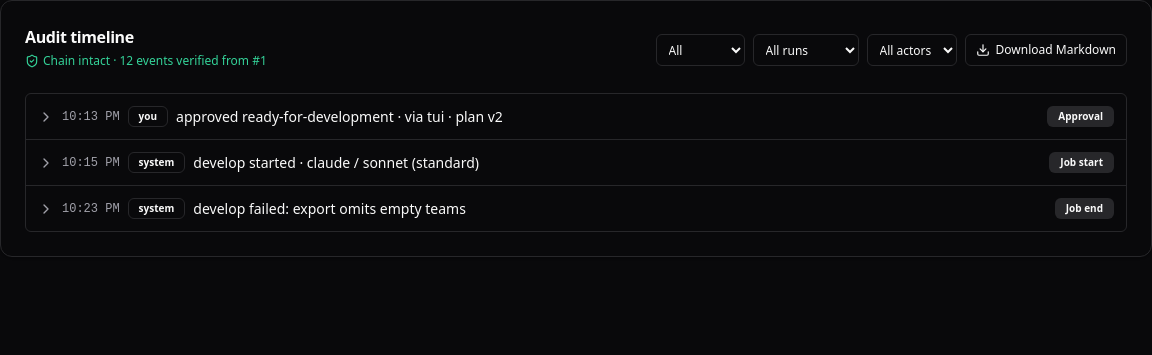
AuditTimeline › renders entries, expands details on click, and shows chain status
The image size is (1152, 355).
Expected: the text "approved ready-for-development · via tui · plan v2" is shown, [176,106,503,126]
Expected: the text "Chain intact · 12 events verified from #1" is shown, [25,53,267,69]
Click the text "develop started · claude / sonnet (standard)" at (336, 162), box [193,152,479,172]
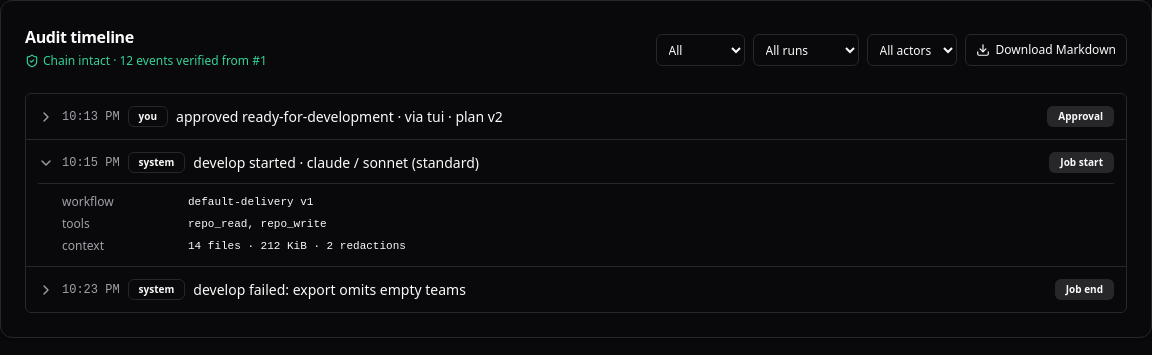
Now the text "14 files · 212 KiB · 2 redactions" is shown, box [188,240,406,252]
